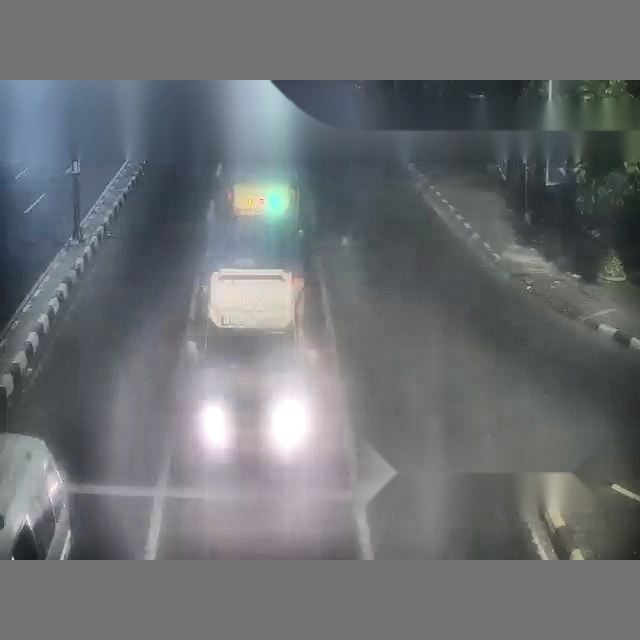Mobil: (0, 432, 72, 559)
